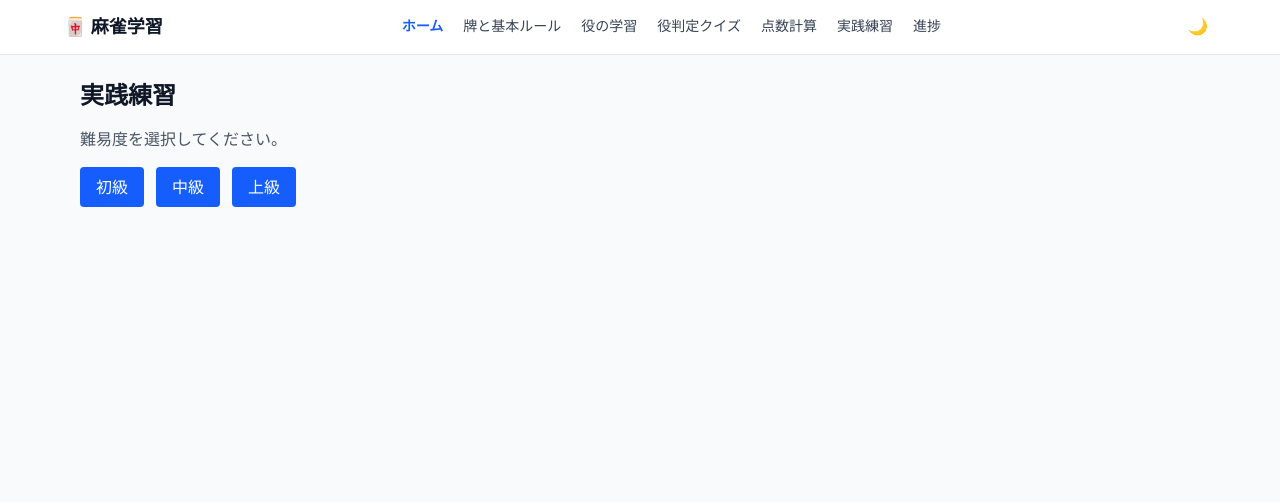
Scenario: PracticePage 必須コンテンツ › 対局中にヒント機能が提供される（要件5.4）
Click the button "初級" at (112, 187), box [80,167,144,207]
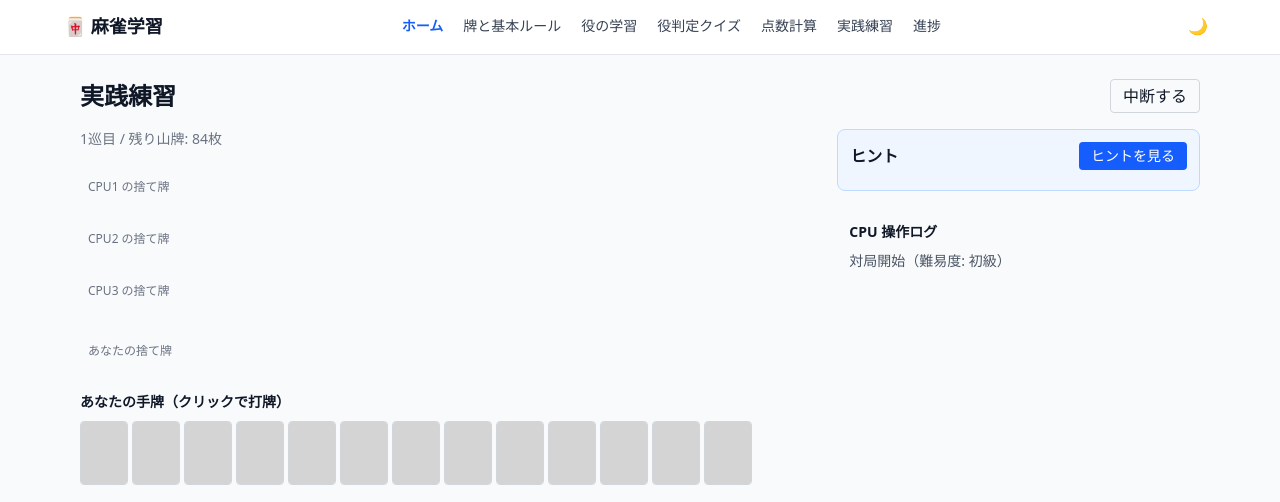
Check: the button "ヒントを見る" is shown
Click the button "ヒントを見る" at (1133, 156), box [1079,142,1187,170]
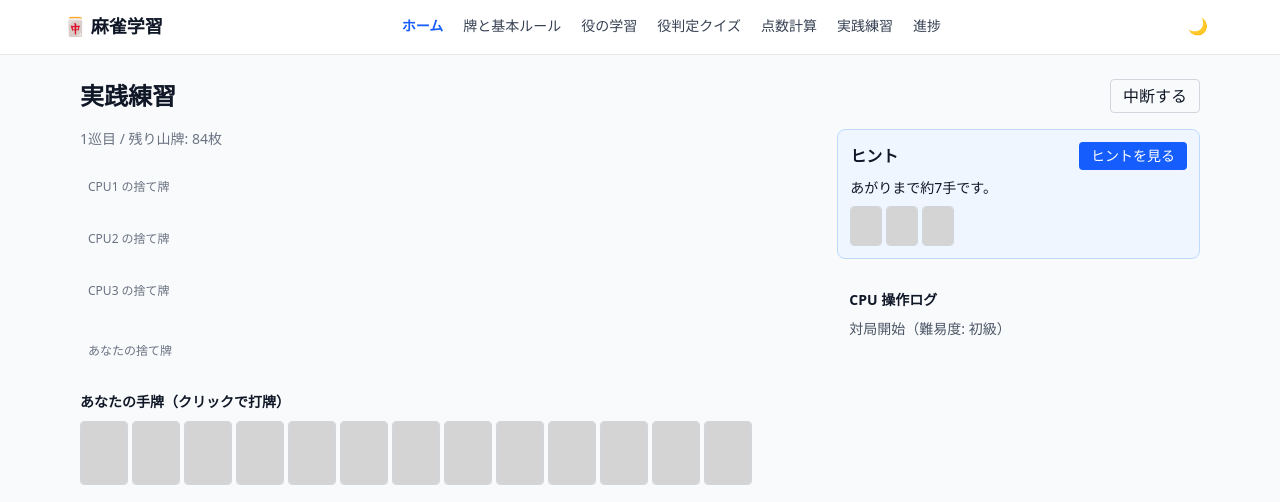
Check: the text "あがりまで約7手です。" is shown, box [850,178,997,197]
